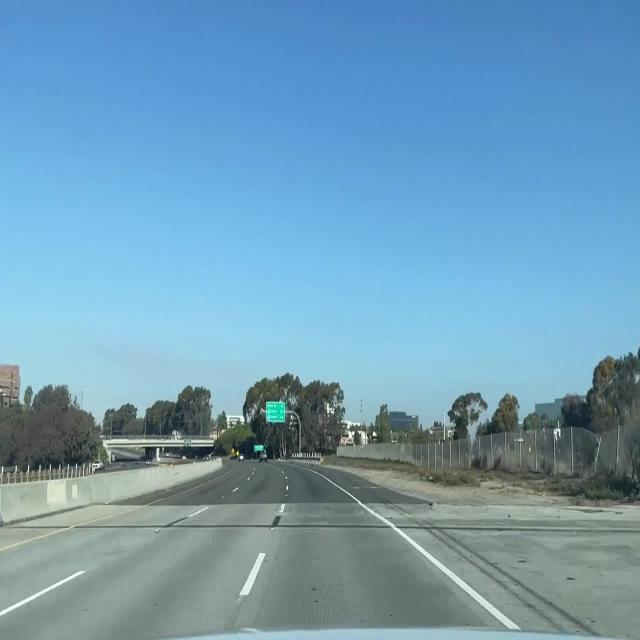street-signs: (266, 400, 285, 423), (254, 444, 264, 452)
